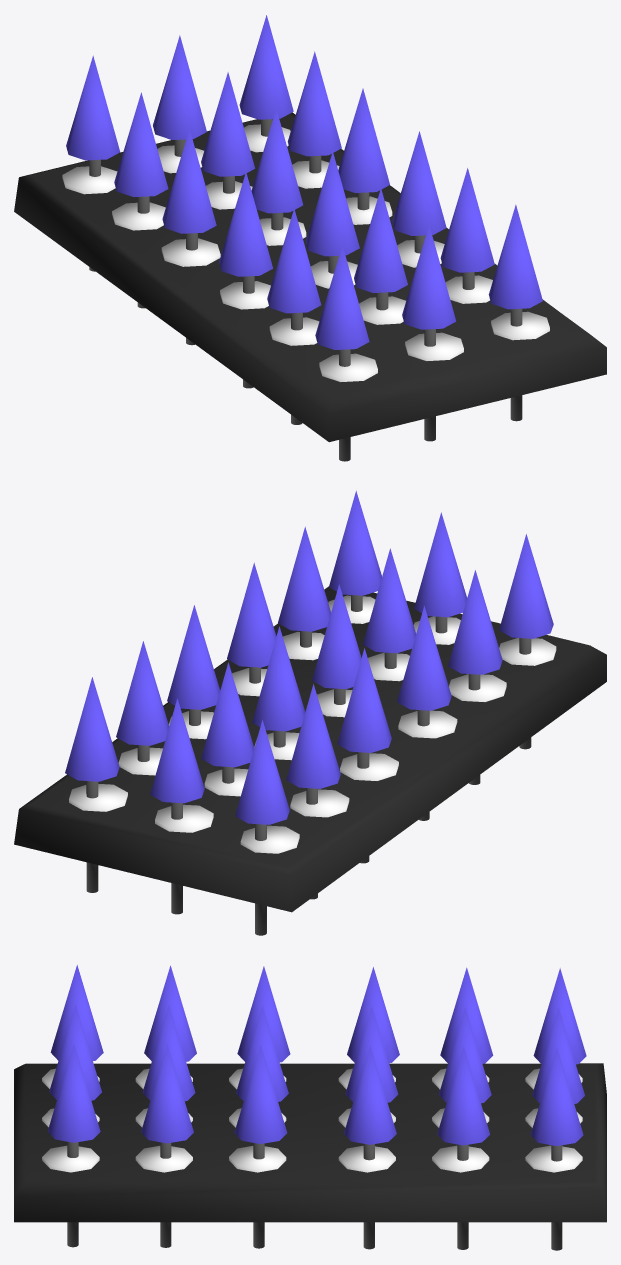
Rendered from trishool ground v1.3.fbx.
The picture shows the model from 3 angles, top to bottom: view 1: azimuth 30°, elevation 25°; view 2: azimuth 150°, elevation 25°; view 3: azimuth 270°, elevation 25°; orthographic projection. The views are drawn at different scales.
Parts seen in each view (by area): view 1: spike-obstacle.001, spike-obstacle.003; view 2: spike-obstacle.001, spike-obstacle.003; view 3: spike-obstacle.001, spike-obstacle.003.
Part boxes in pixels (<box>): spike-obstacle.001: <box>14,112,606,442</box>; spike-obstacle.003: <box>66,15,542,461</box>; spike-obstacle.001: <box>14,586,606,912</box>; spike-obstacle.003: <box>65,490,553,935</box>; spike-obstacle.001: <box>14,1063,606,1222</box>; spike-obstacle.003: <box>47,965,586,1250</box>.
Size of the model in its own units: 236 by 173 by 463.
